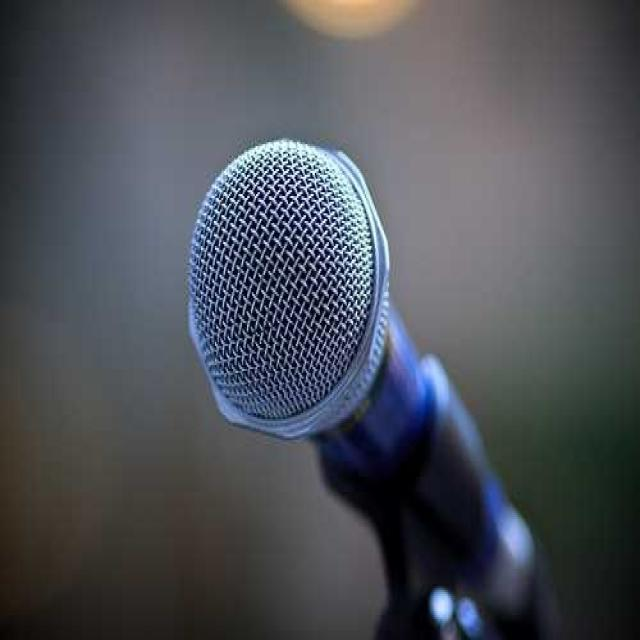microphone: (196, 137, 566, 634)
